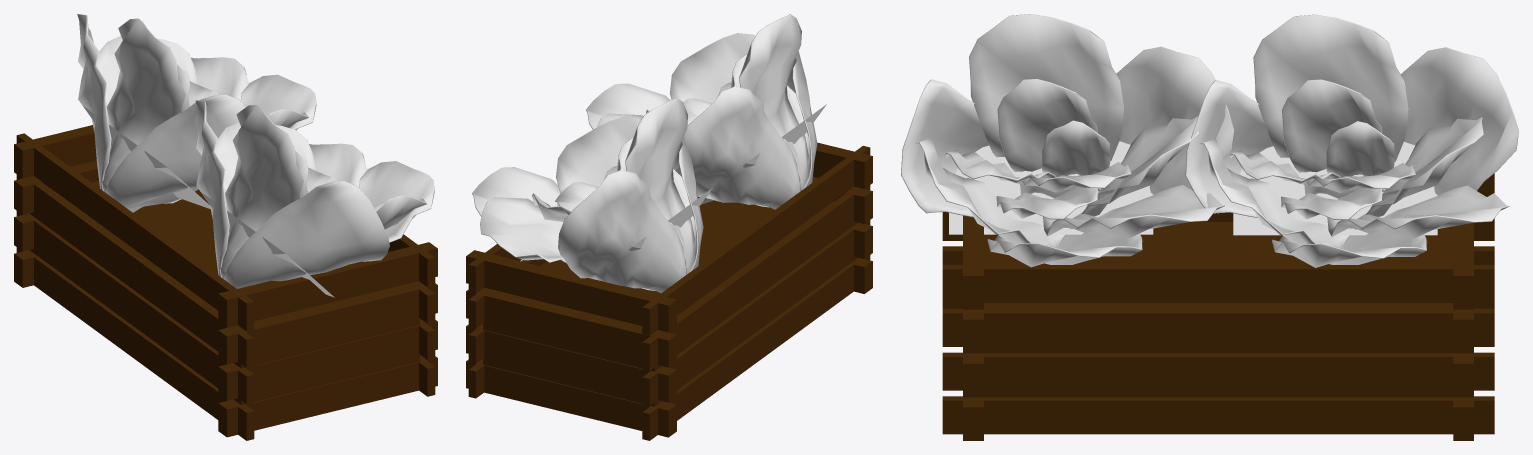
File: lettuce-crate.fbx
3 renders of one model, left to right at view 1: azimuth 30°, elevation 25°; view 2: azimuth 150°, elevation 25°; view 3: azimuth 270°, elevation 25°, orthographic. The views are drawn at different scales.
Parts seen in each view (by area): view 1: Cube.001, Plane.002, Plane.001; view 2: Cube.001, Plane.001, Plane.002; view 3: Cube.001, Plane.001, Plane.002.
Part boxes in pixels (bbox=[...]): Cube.001: bbox=[14, 125, 437, 440]; Plane.002: bbox=[195, 100, 434, 297]; Plane.001: bbox=[77, 14, 316, 212]; Cube.001: bbox=[466, 142, 872, 440]; Plane.001: bbox=[472, 97, 712, 293]; Plane.002: bbox=[586, 14, 826, 209]; Cube.001: bbox=[942, 173, 1494, 440]; Plane.001: bbox=[1185, 14, 1518, 267]; Plane.002: bbox=[901, 14, 1234, 267].
Size of the model in its own units: 279 by 312 by 510.
